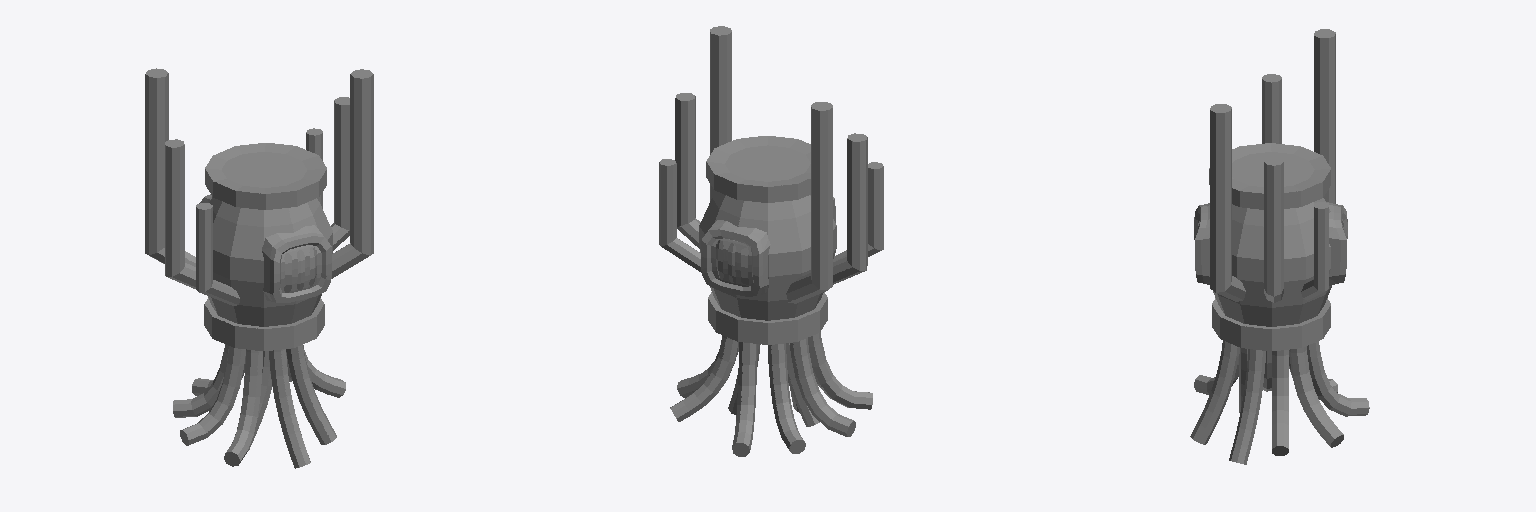
The model's file is coalBurner.obj.
3 views of the same model, side by side, from view 1: azimuth 30°, elevation 25°; view 2: azimuth 150°, elevation 25°; view 3: azimuth 270°, elevation 25° (orthographic).
Parts seen in each view (by area): view 1: Heater004, Heater003, Heater1, firecycle, Heater2; view 2: Heater004, Heater003, Heater1, firecycle2; view 3: Heater003, Heater004.
Part boxes in pixels (left/top/right/bottom): Heater004: left=145, top=70, right=369, bottom=468; Heater003: left=151, top=68, right=373, bottom=464; Heater1: left=146, top=70, right=372, bottom=460; firecycle: left=284, top=247, right=316, bottom=292; Heater2: left=147, top=69, right=367, bottom=466; Heater004: left=661, top=26, right=883, bottom=456; Heater003: left=659, top=26, right=879, bottom=453; Heater1: left=660, top=26, right=882, bottom=441; firecycle2: left=716, top=240, right=748, bottom=286; Heater003: left=1190, top=29, right=1369, bottom=464; Heater004: left=1194, top=29, right=1350, bottom=422.
Size of the model in its own units: 192 by 358 by 157.